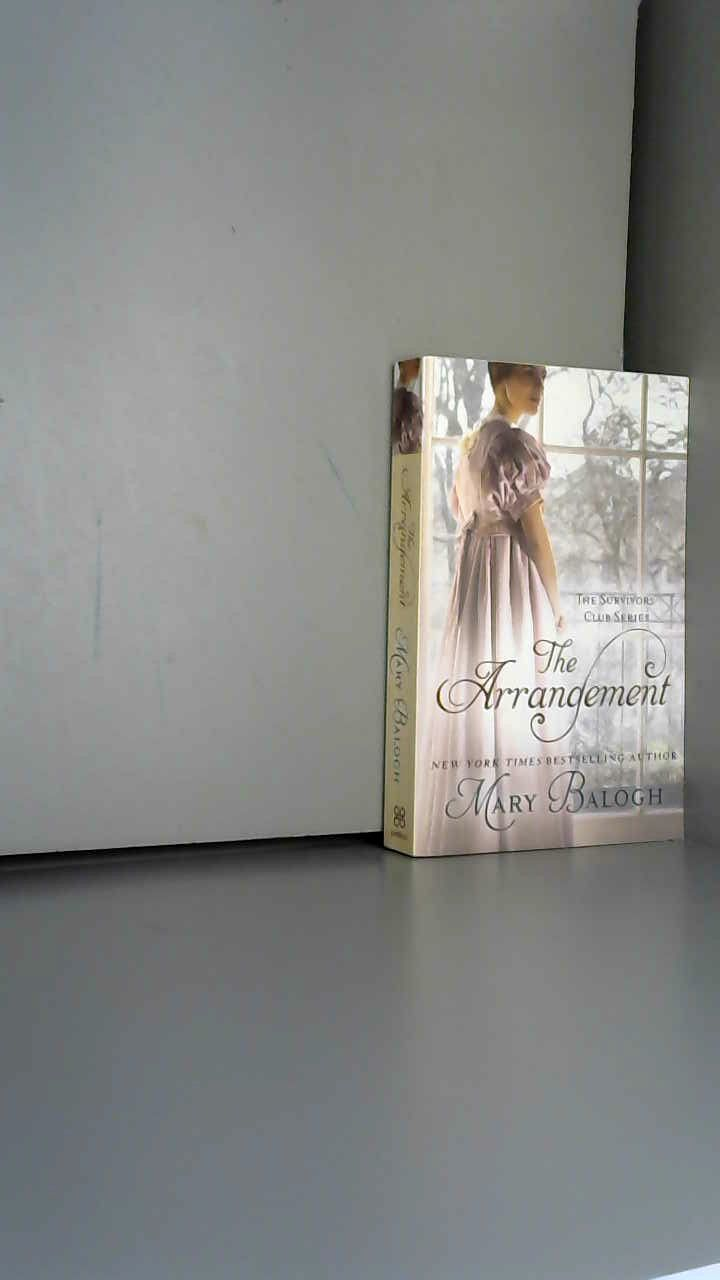book: (350, 330, 720, 875)
